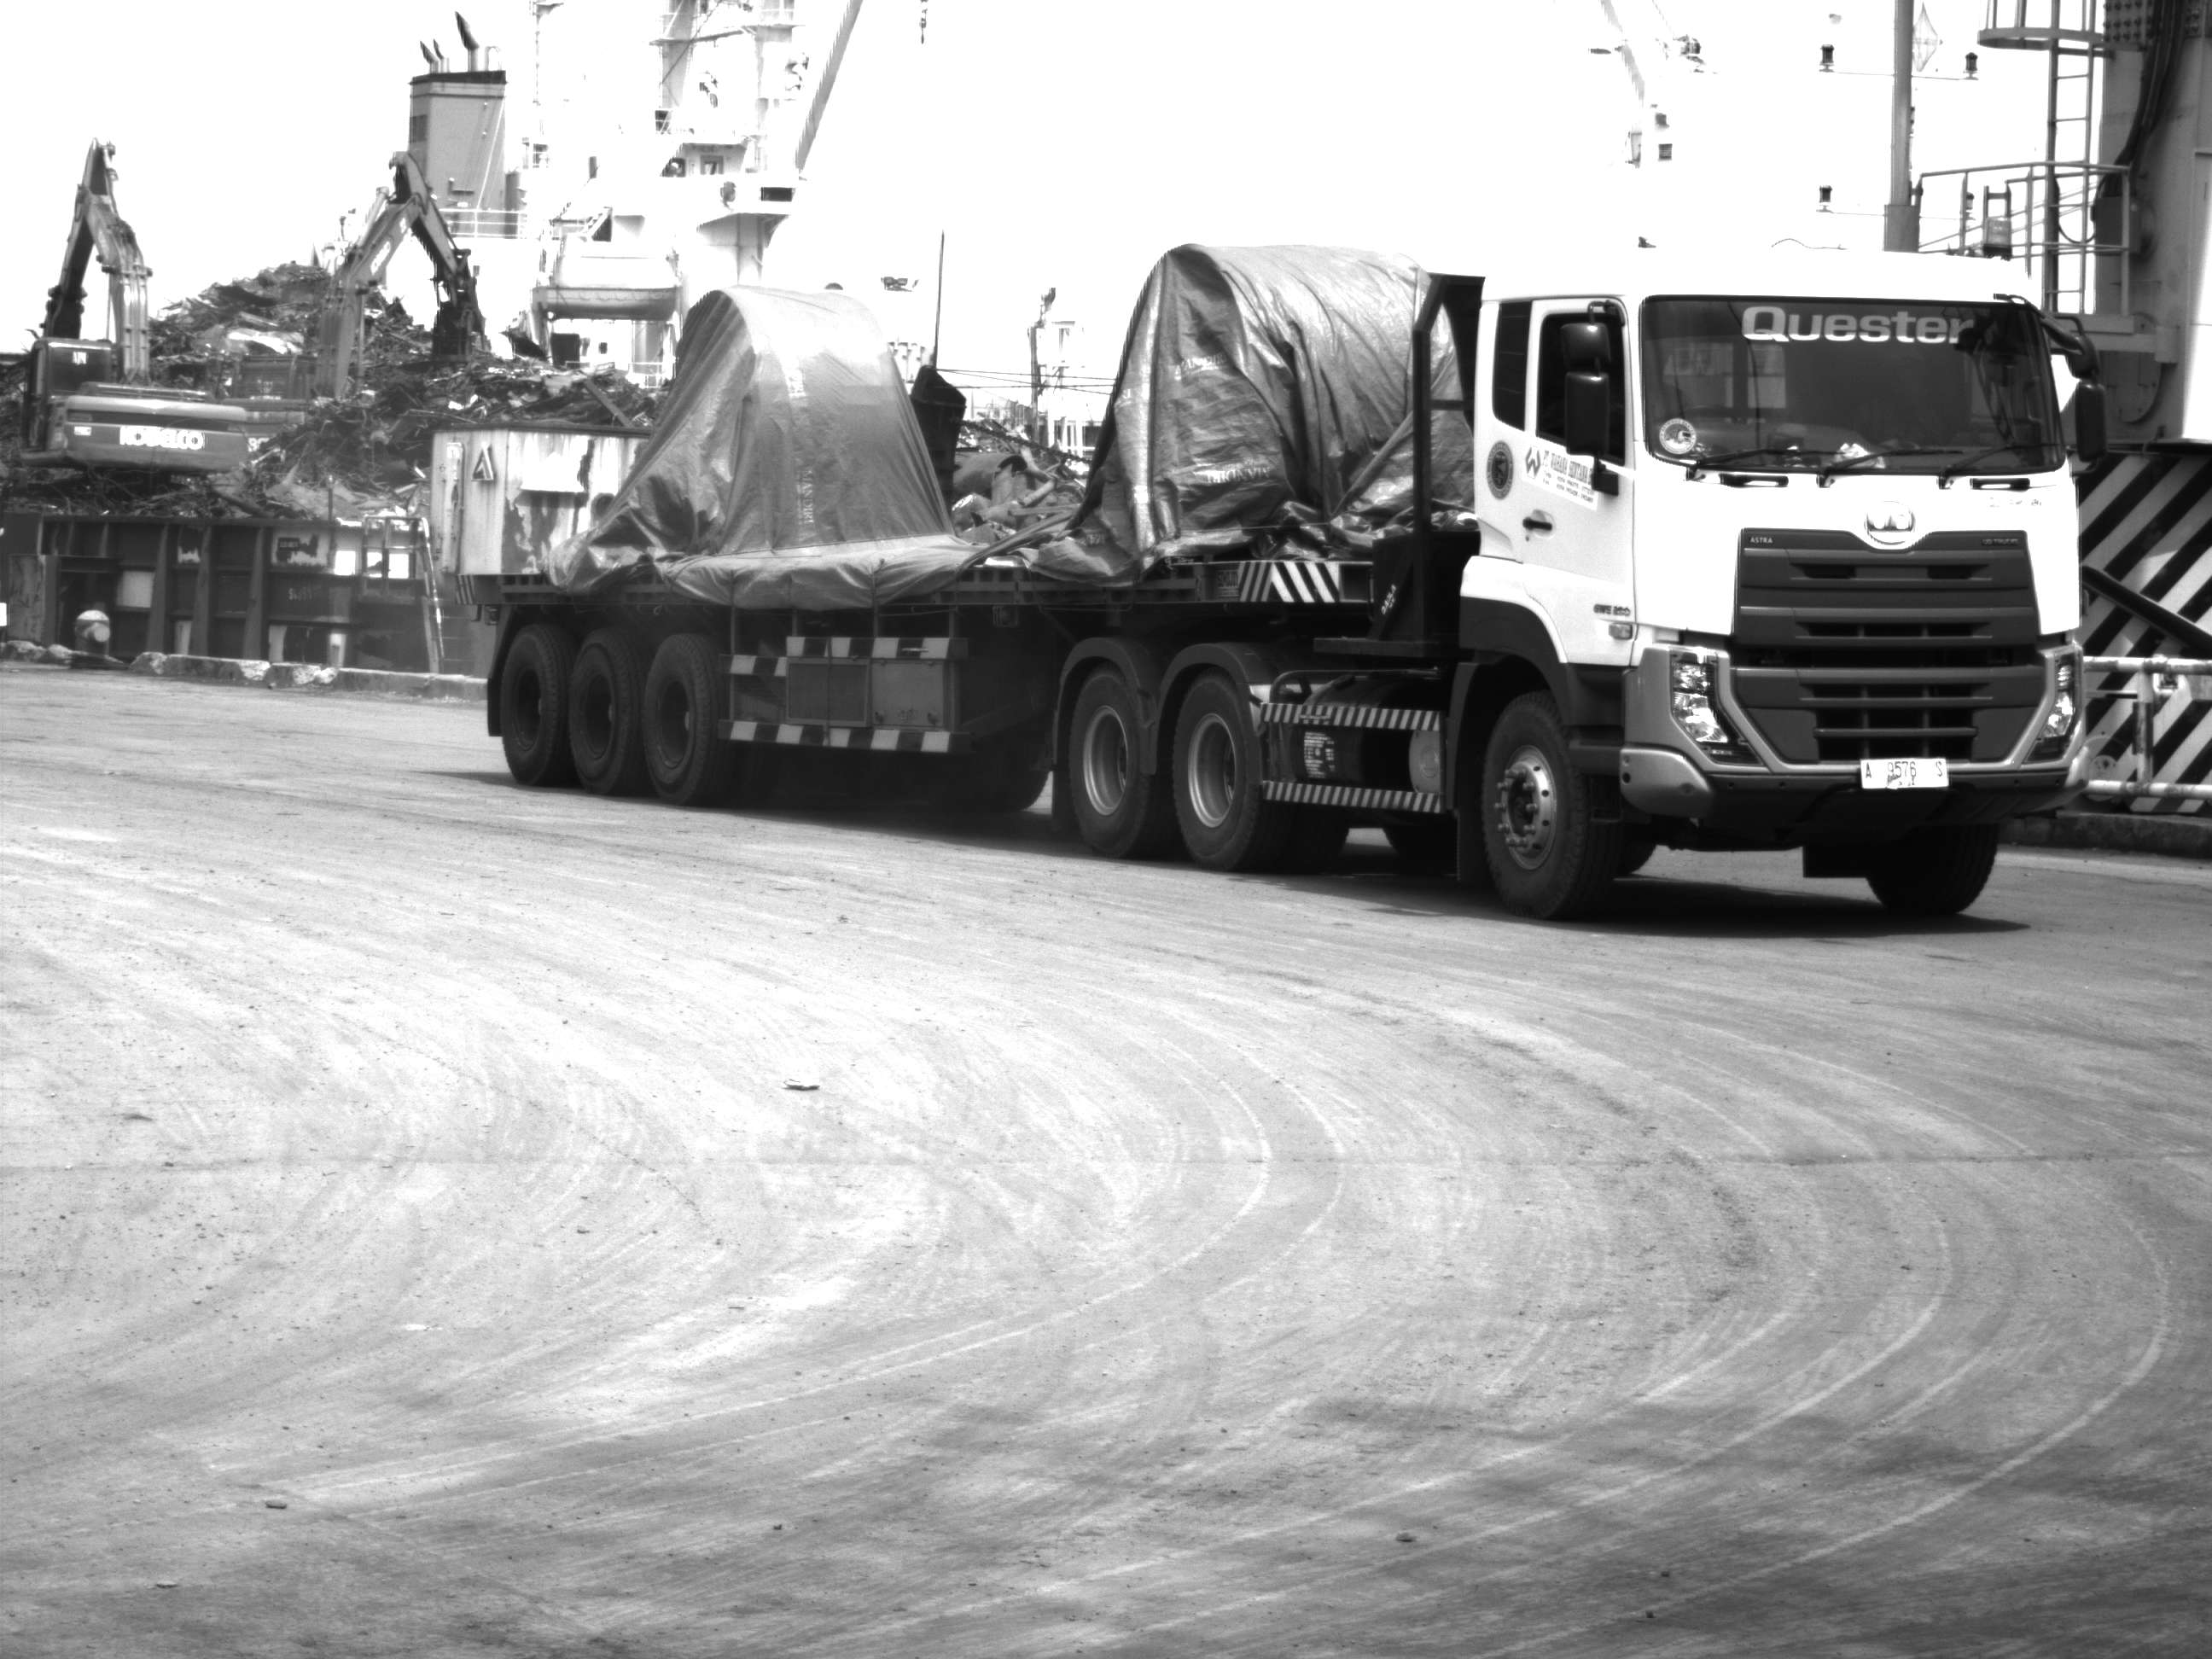number_plate: (1858, 755, 1951, 793)
truck: (446, 222, 2098, 859)
